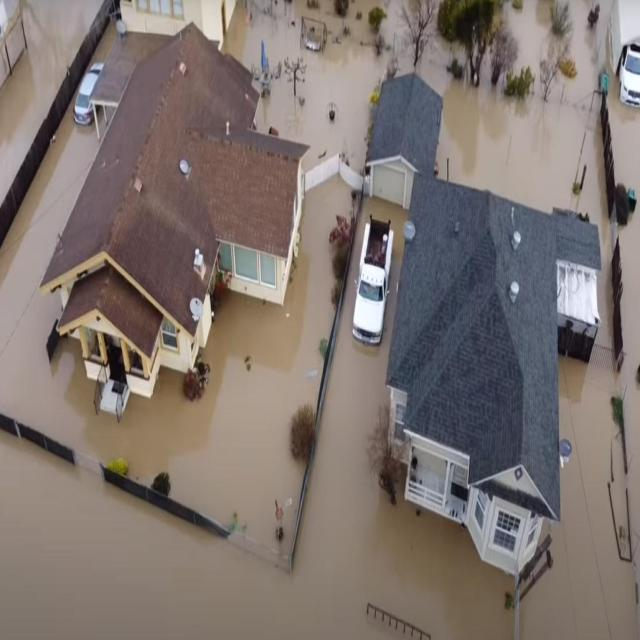flood: (0, 197, 514, 639), (0, 102, 351, 547), (418, 0, 612, 300), (522, 207, 640, 639), (223, 0, 414, 172), (0, 0, 102, 203)
house: (36, 17, 313, 439), (383, 166, 601, 594), (363, 68, 447, 212)
